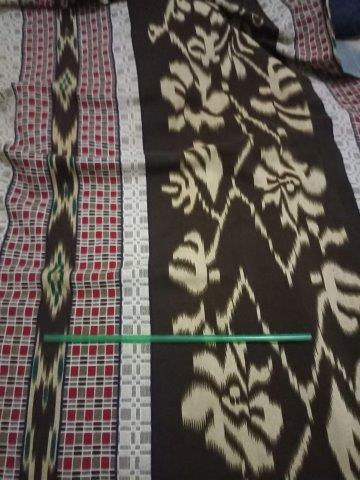sedotan: (43, 334, 311, 343)
